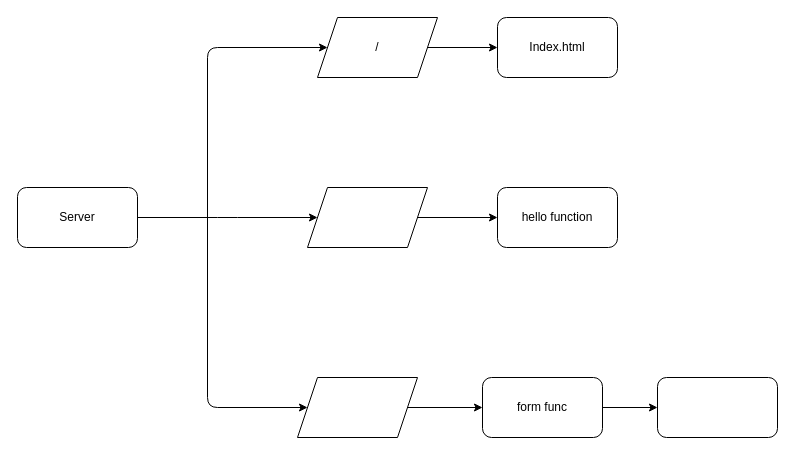
Image size: 795x455. Some labels were removed from this diagram. The centre of each missing label's shape, as x and y in pixels:
/ form: the point at 357,407
/ hello: the point at 367,217
form.html: the point at 717,407
